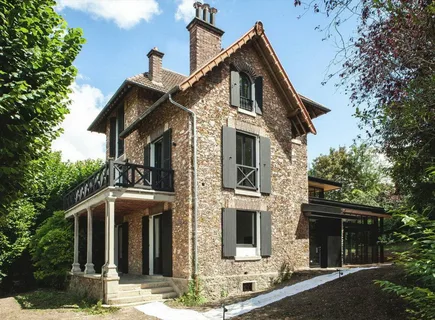private_hause: (100, 71, 317, 271)
